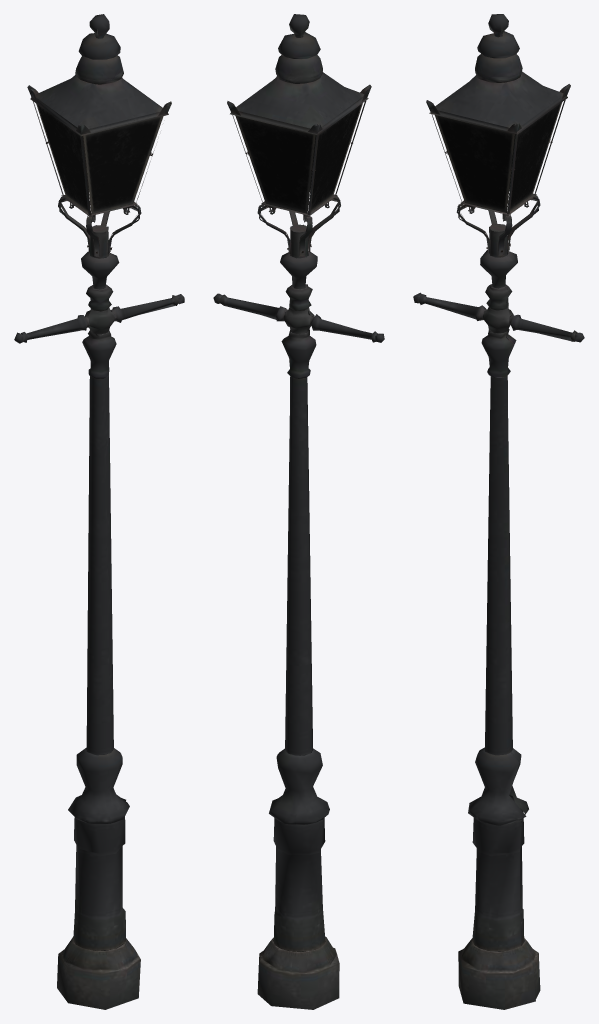
File: street_lamp_01.glb
3 views of the same model, side by side, from view 1: azimuth 30°, elevation 25°; view 2: azimuth 150°, elevation 25°; view 3: azimuth 330°, elevation 25° (orthographic).
Parts seen in each view (by area): view 1: street_lamp_01; view 2: street_lamp_01; view 3: street_lamp_01.
Part boxes in pixels (x1,y1,x2,y2): street_lamp_01: (14,14,184,1009); street_lamp_01: (213,14,384,1009); street_lamp_01: (413,14,584,1009).
Size of the model in its own units: 0.7081 by 3.87 by 0.3839.
3 materials, 3 textured.
